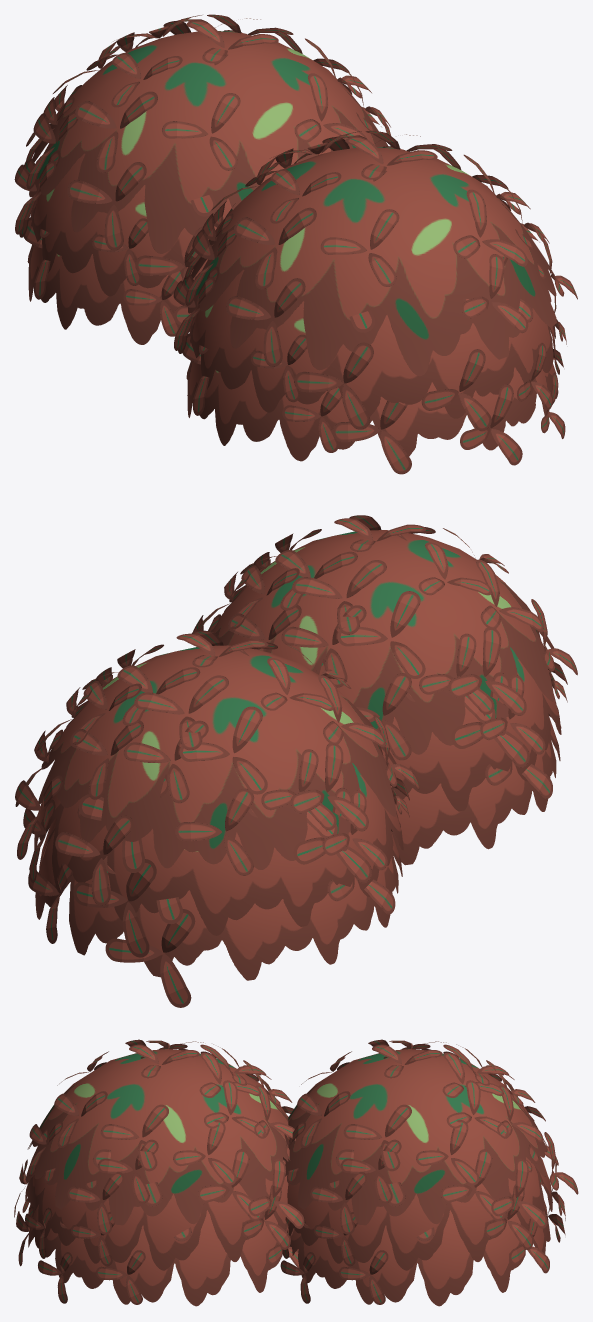
Rendered from TwoBushCrimson.fbx.
3 renders of one model, top to bottom at view 1: azimuth 30°, elevation 25°; view 2: azimuth 150°, elevation 25°; view 3: azimuth 270°, elevation 25°, orthographic. The views are drawn at different scales.
Visible parts, largest first — view 1: Sphere.021; view 2: Sphere.021; view 3: Sphere.021.
Part boxes in pixels (left/top/right/bottom): Sphere.021: left=14, top=14, right=577, bottom=474; Sphere.021: left=15, top=515, right=577, bottom=1007; Sphere.021: left=14, top=1039, right=578, bottom=1306.
Size of the model in its own units: 215 by 163 by 393.
